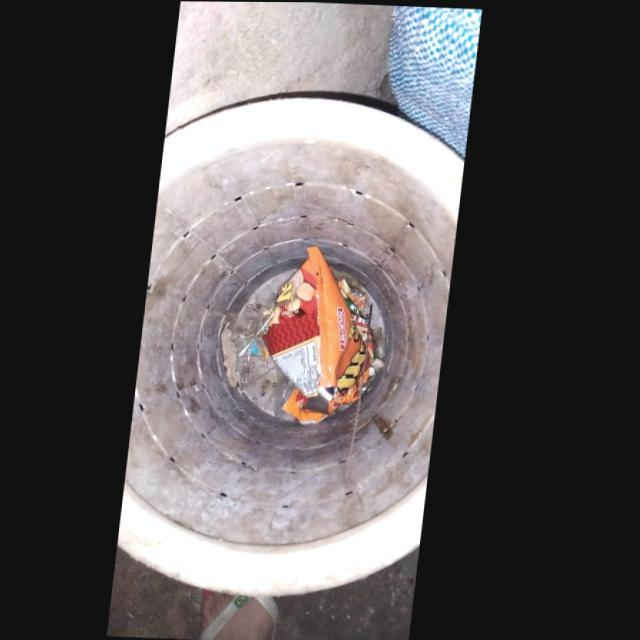food_wrapper: (266, 245, 379, 423)
